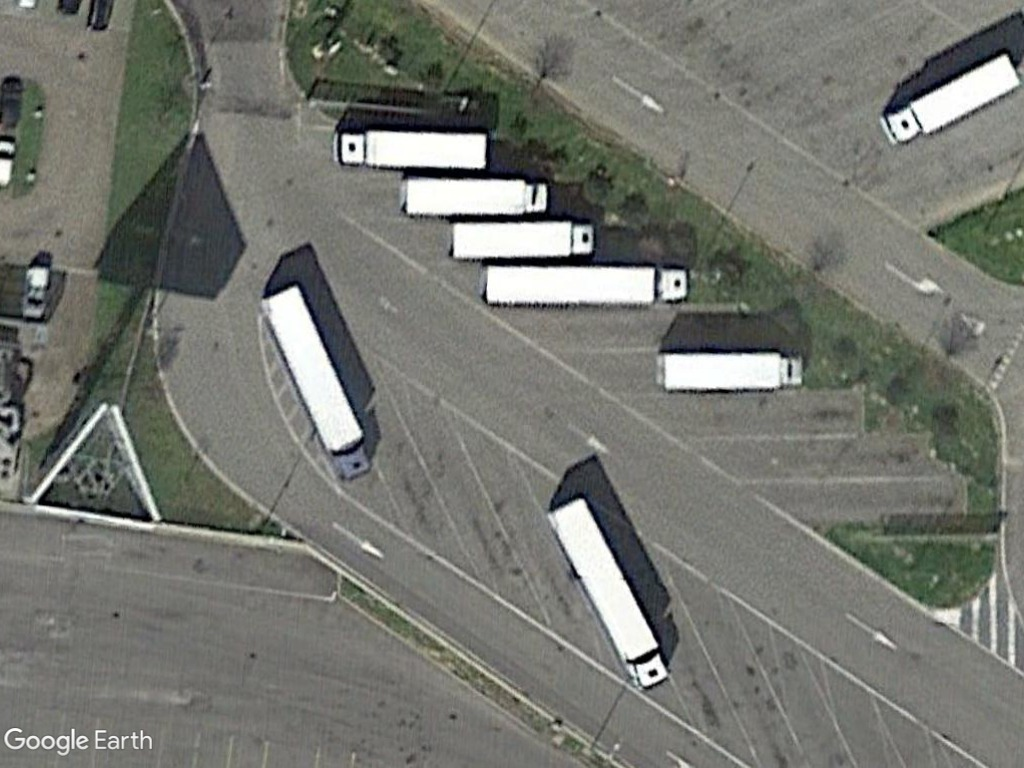longvehicle: (538, 491, 672, 692), (250, 278, 374, 484), (875, 52, 1023, 151), (475, 263, 691, 311), (328, 123, 491, 173), (651, 346, 808, 395), (443, 217, 597, 262), (394, 176, 550, 219)
